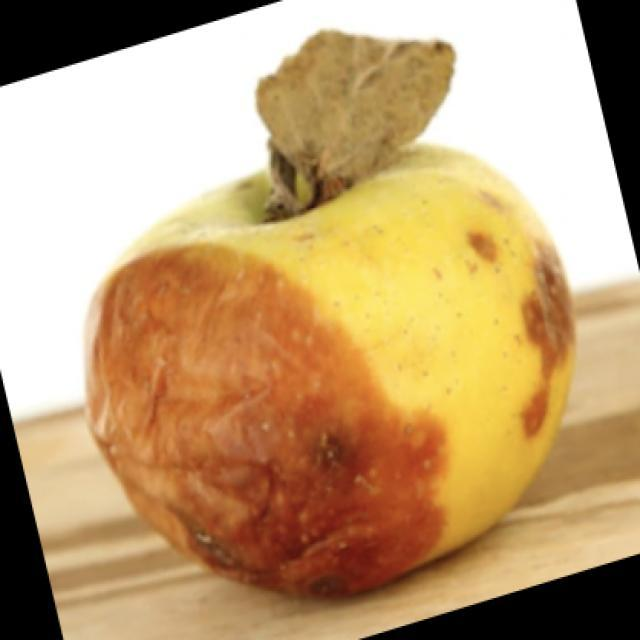Rotten: (71, 130, 576, 602)
